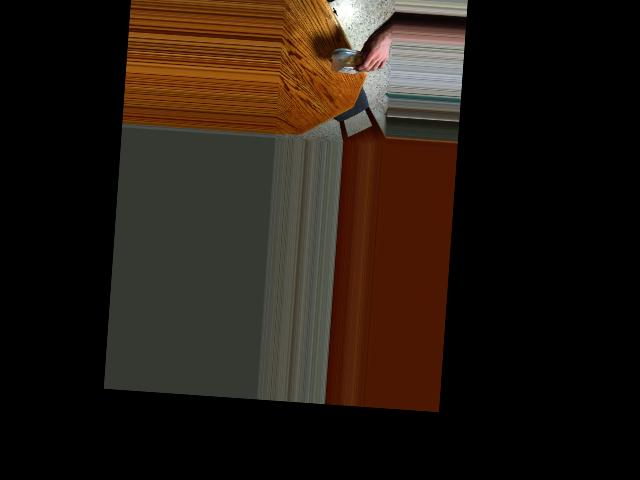cheese: (326, 38, 374, 82)
